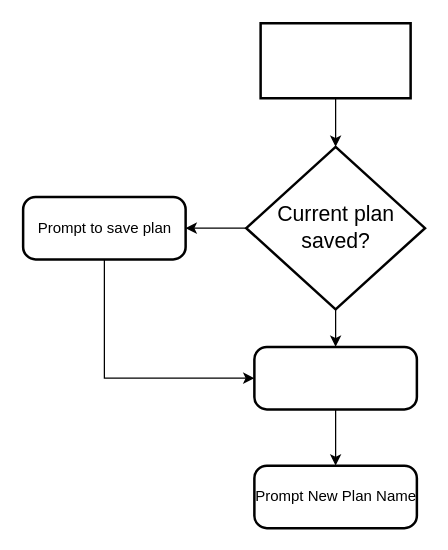
The diagram is 448 pixels wide and 550 high, and some of its shapes have lost their labels. The shapes that lost their labels are listed below. From the top down, each one's centre as x and y in pixels, then its label:
[335,60]: Select "New Flight Plan"
[335,377]: Clear waypoints on map (if any)
